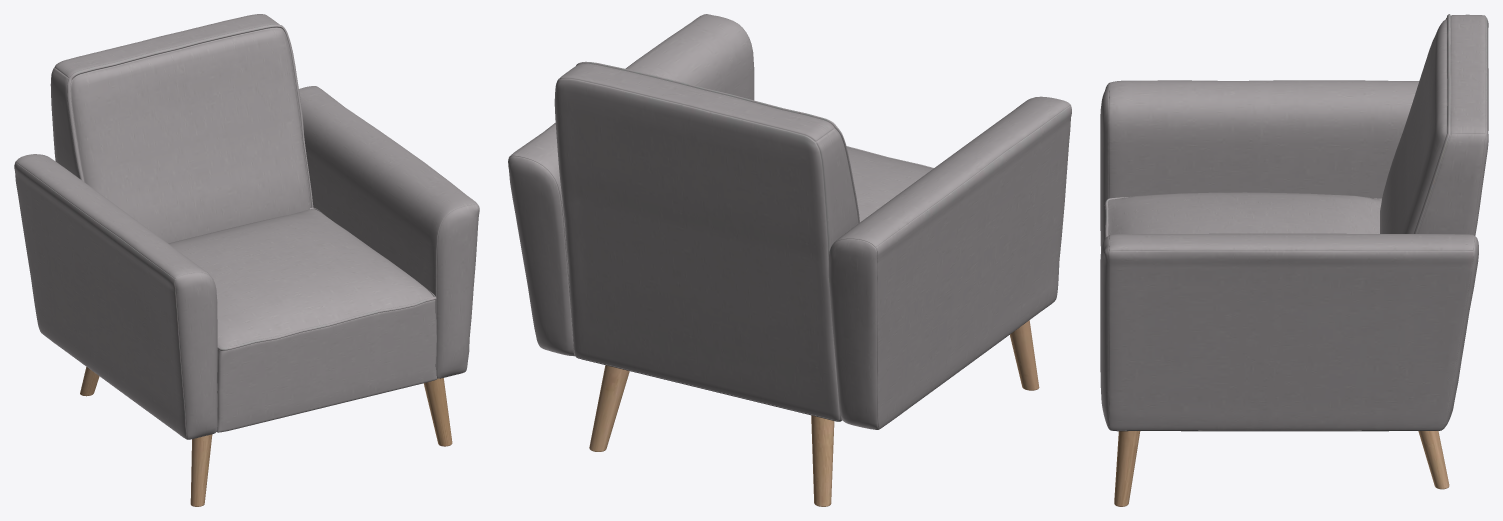
Rendered from B07QZ21DDV-mobile.glb.
3 views of the same model, side by side, from view 1: azimuth 30°, elevation 25°; view 2: azimuth 150°, elevation 25°; view 3: azimuth 270°, elevation 25° (orthographic). The views are drawn at different scales.
Parts seen in each view (by area): view 1: B07QZ21DDV; view 2: B07QZ21DDV; view 3: B07QZ21DDV.
Boxes of the visible parts, <box> form: B07QZ21DDV: <box>14,14,479,506</box>; B07QZ21DDV: <box>508,14,1071,506</box>; B07QZ21DDV: <box>1100,14,1488,506</box>.
Bounding box in the file's own units: 0.78 × 0.78 × 0.75.
1 material, 1 textured.
